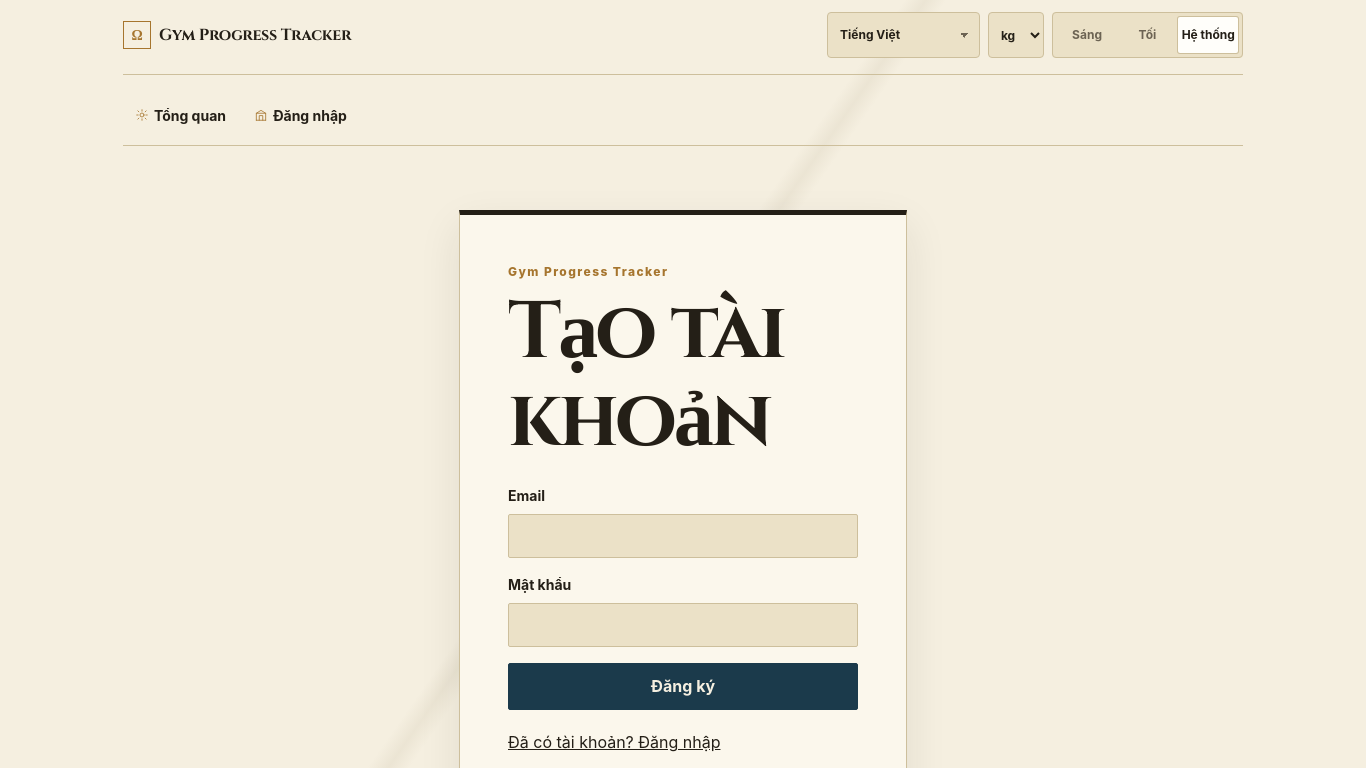
Test: application shell › registers a new account from the registration page
The image size is (1366, 768).
Type "new-athlete@example.com" into the field labelled "Email".
click(683, 536); type("new-athlete@example.com")  # box [508,514,858,558]
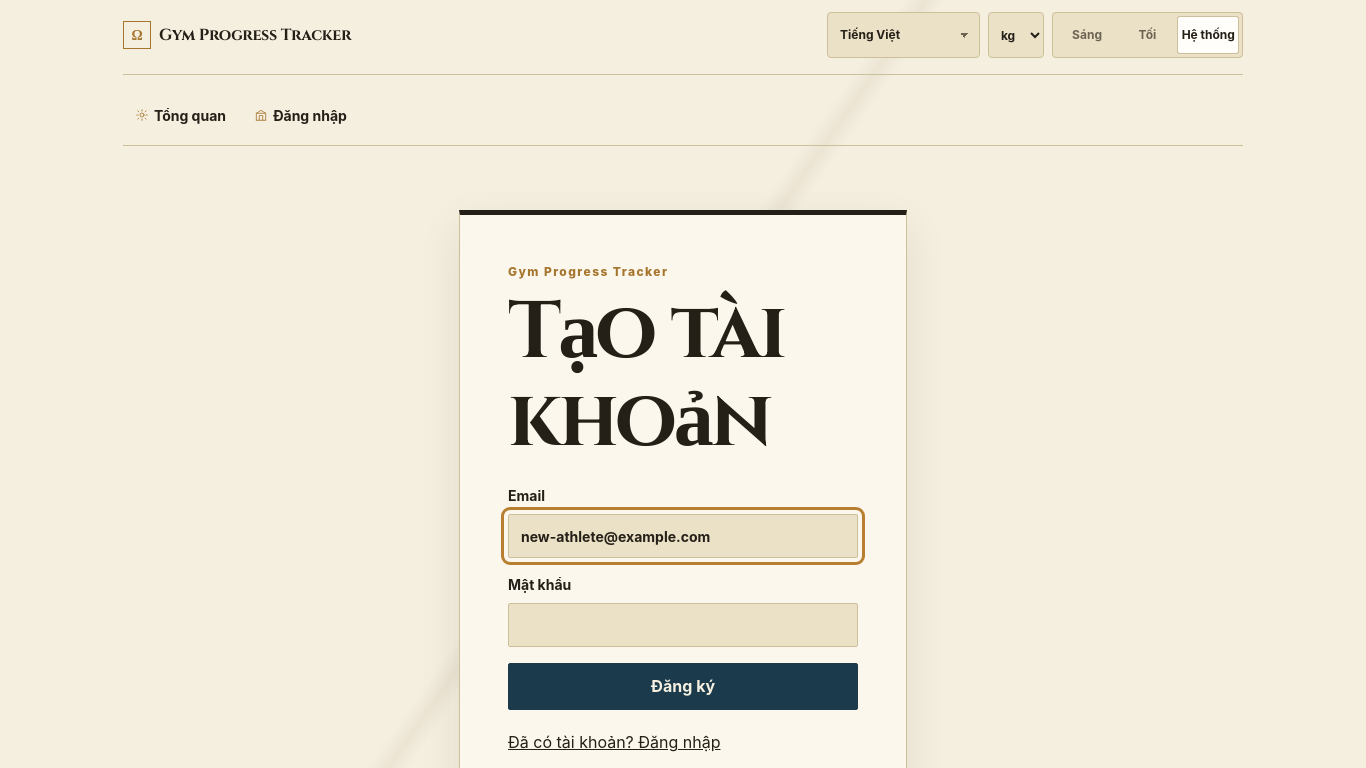
Type "SignupPassword1!" into the password field labelled "Mật khẩu".
click(683, 625); type("SignupPassword1!")  # box [508,603,858,647]
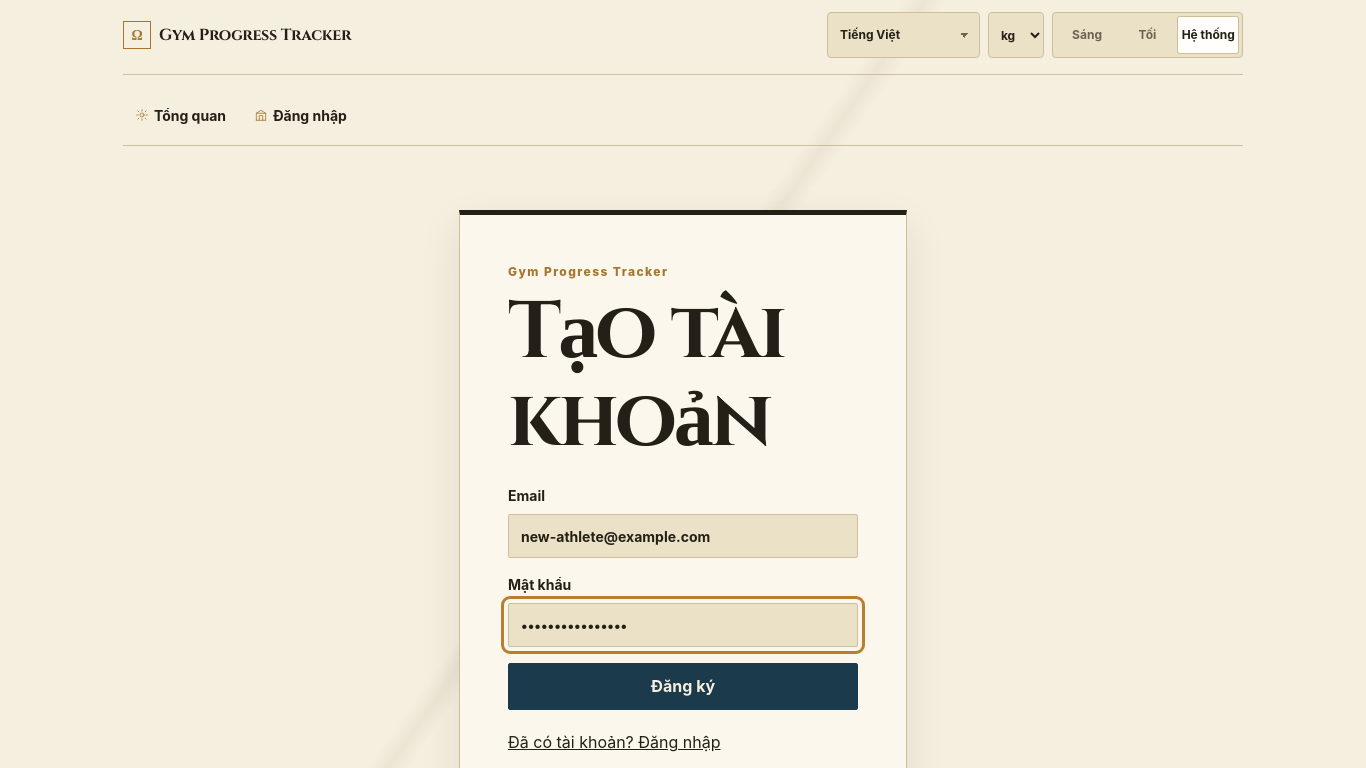
Click the button "Đăng ký".
click(683, 686)  # box [508,663,858,710]
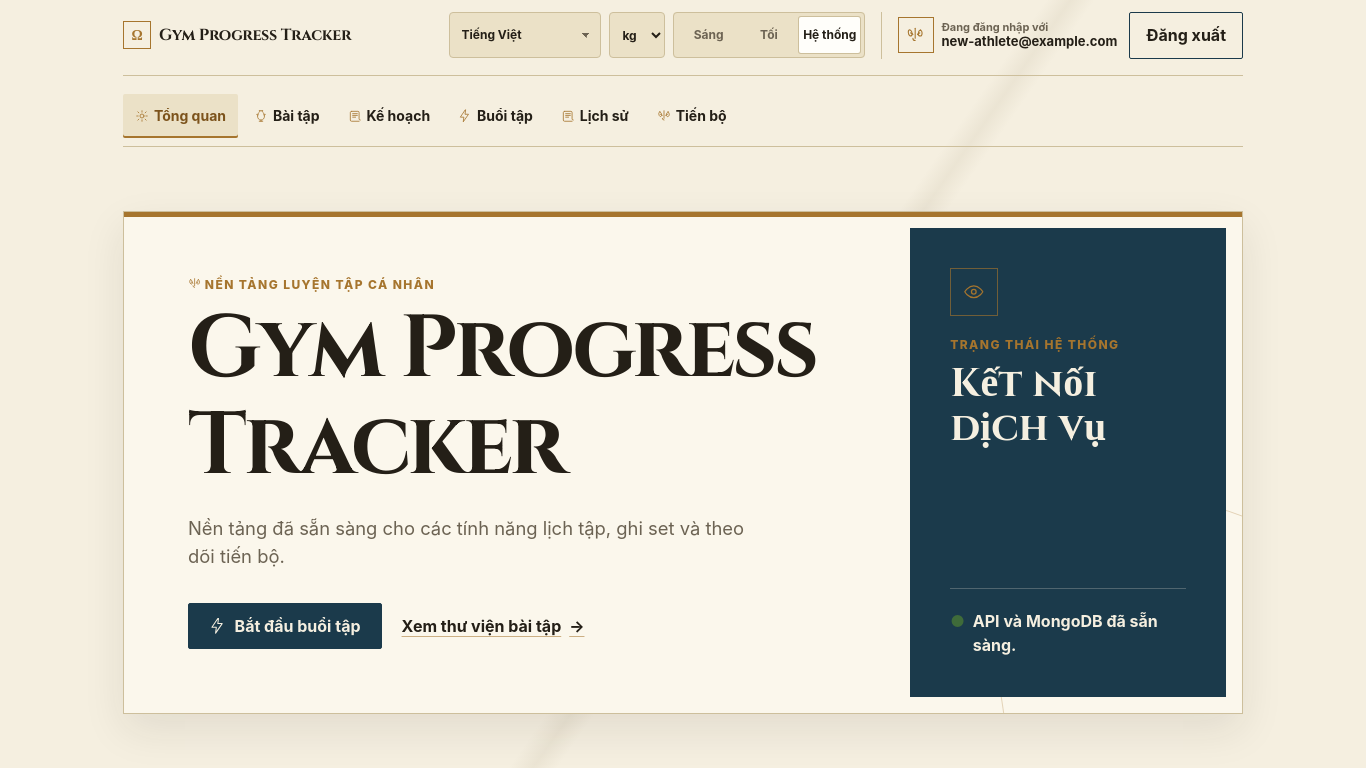
Result: the text "Đang đăng nhập với" is shown at [942,20,1048,34]
Result: the text "new-athlete@example.com" is shown at [942,34,1117,50]
